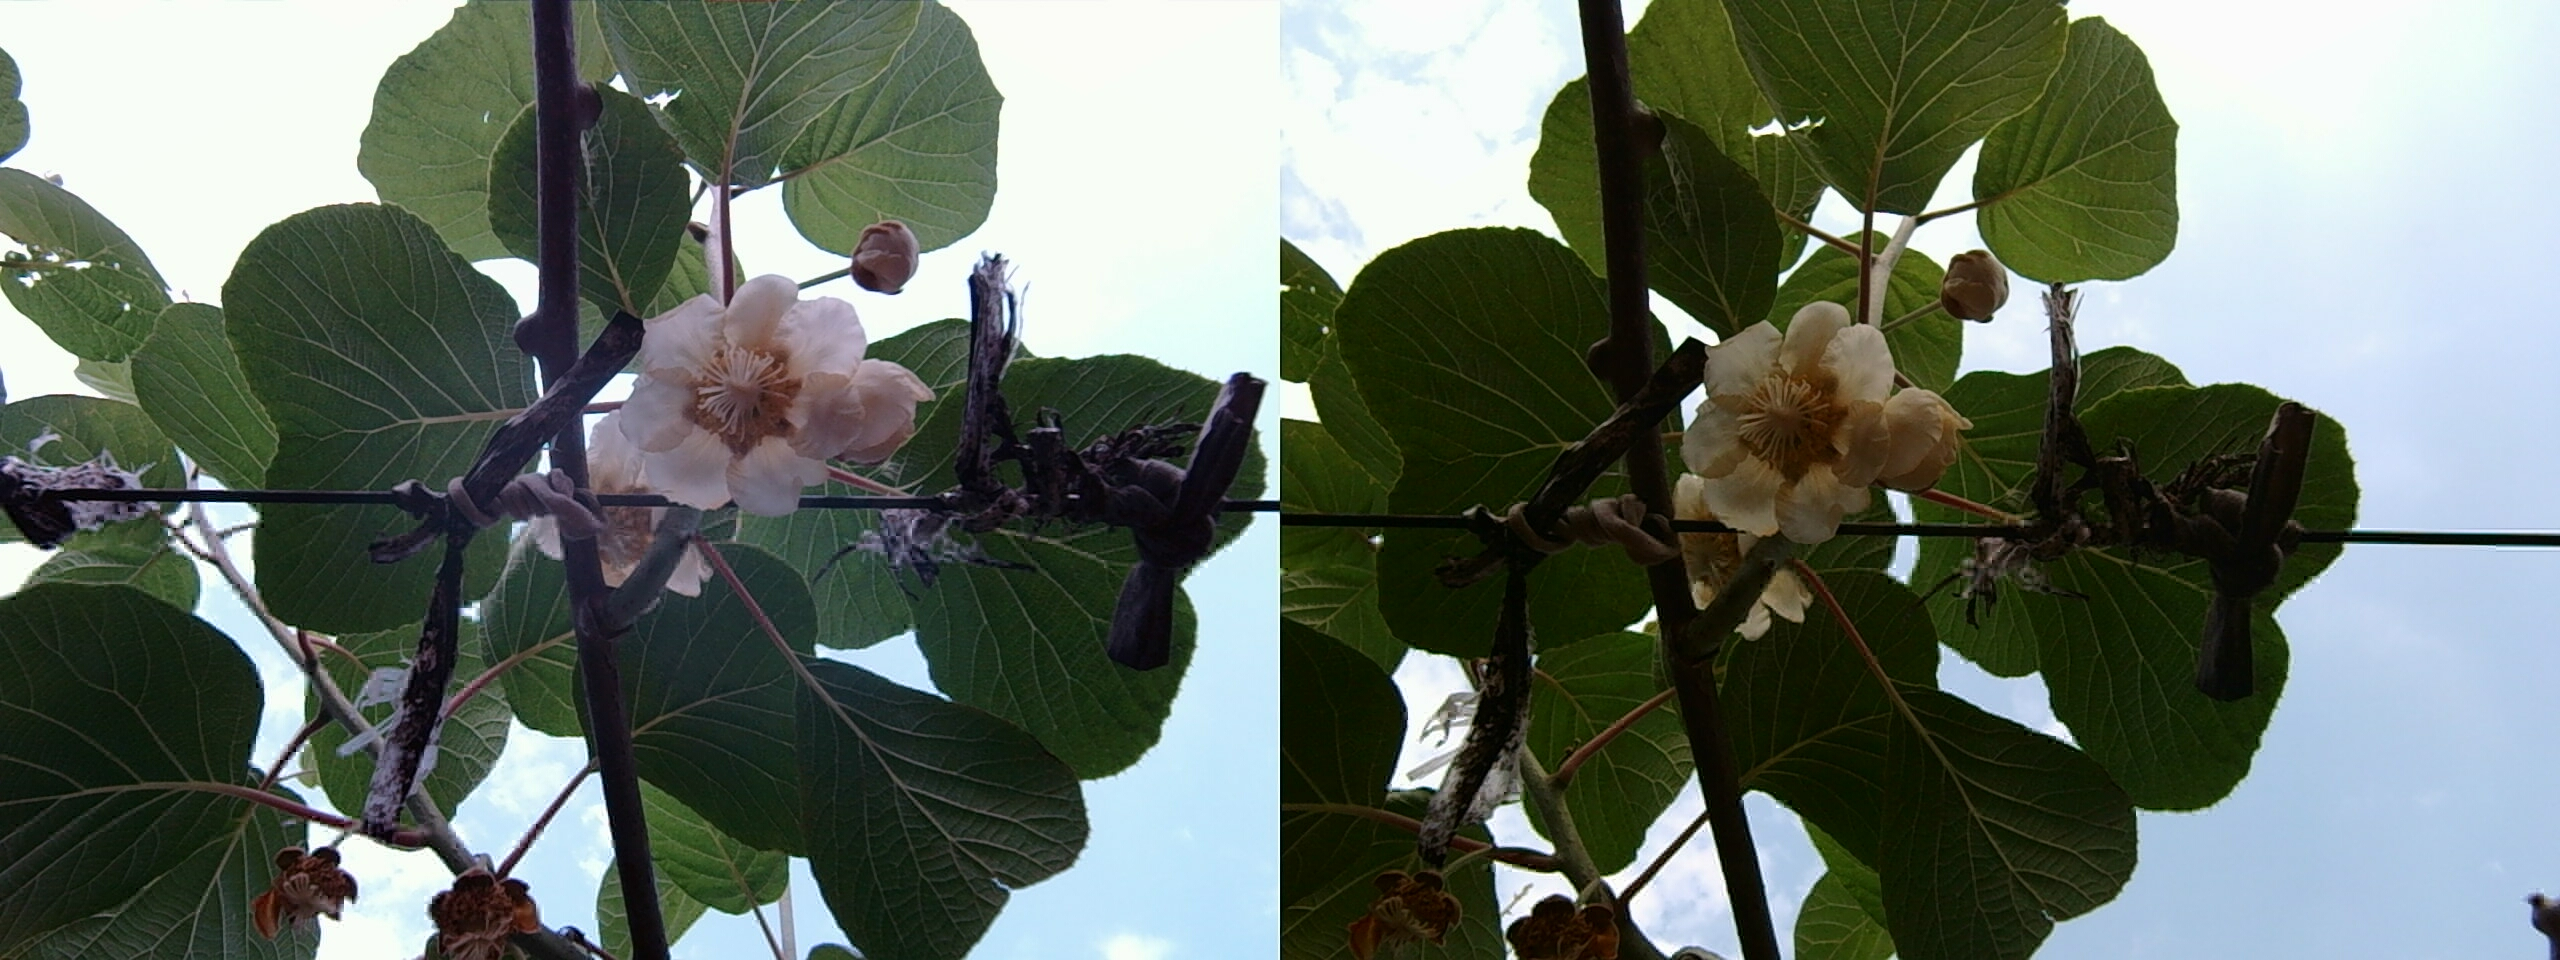flower: (607, 263, 891, 506), (1675, 296, 1930, 537)
